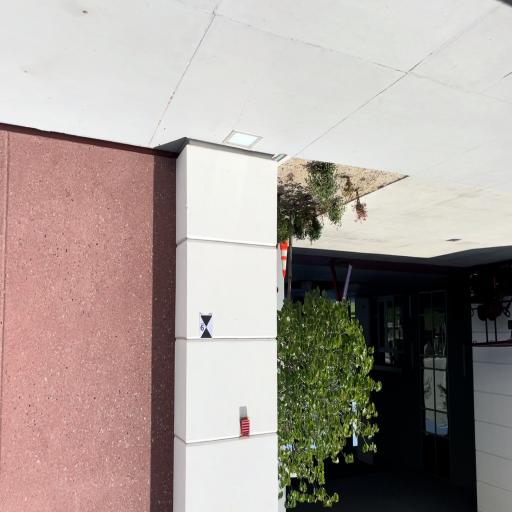target9: (200, 314, 212, 339)
